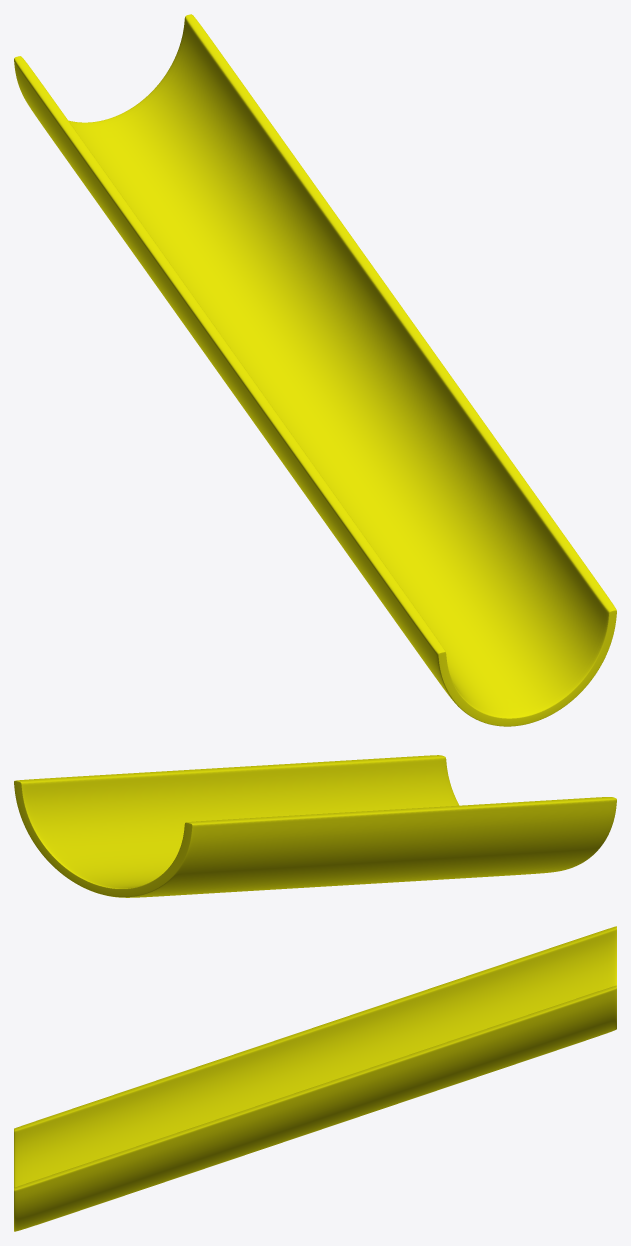
The model's file is half pipe long incline.fbx.
3 renders of one model, top to bottom at view 1: azimuth 30°, elevation 25°; view 2: azimuth 150°, elevation 25°; view 3: azimuth 270°, elevation 25°, orthographic. The views are drawn at different scales.
Visible parts, largest first — view 1: Cylinder; view 2: Cylinder; view 3: Cylinder.
Boxes of the visible parts, x1,y1,x2,y2 form: Cylinder: [14, 14, 616, 726]; Cylinder: [14, 755, 616, 897]; Cylinder: [14, 926, 616, 1231].
Bounding box in the file's own units: 199 × 397 × 810.
